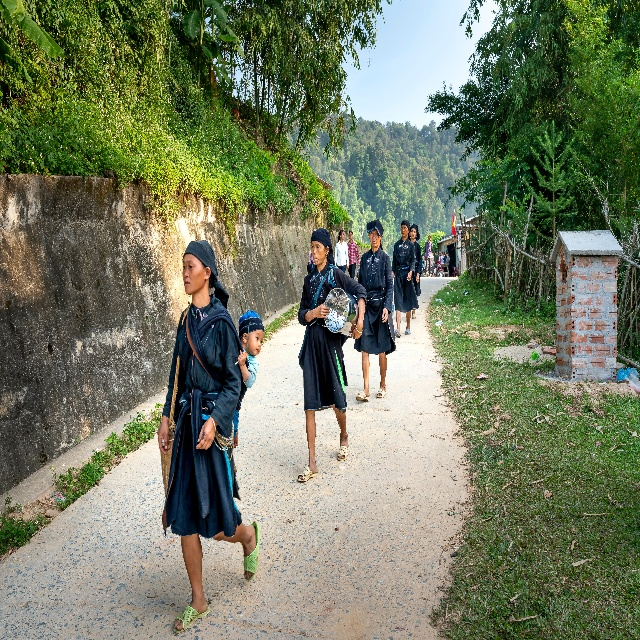Sin_guantes: (195, 418, 216, 450), (157, 418, 170, 455), (315, 302, 330, 318), (350, 325, 362, 339), (237, 350, 246, 366), (382, 307, 388, 323), (407, 272, 412, 281), (416, 274, 419, 284)
